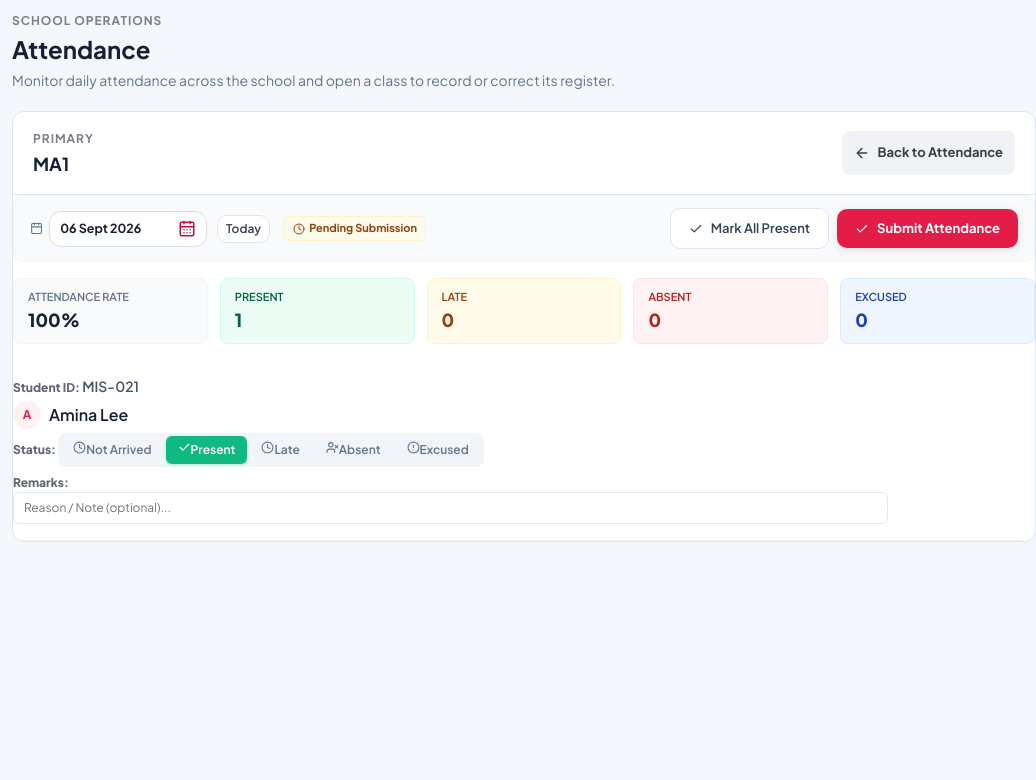
Test: ClassesPage › opens the standalone class register and allows recording attendance
The width and height of the screenshot is (1036, 780).
Expected: the heading "MA1" is shown, [33, 152, 69, 176]
Expected: the text "ATTENDANCE RATE" is shown, [28, 290, 129, 304]
Click the button "Submit Attendance" at (928, 229), box [837, 209, 1018, 248]
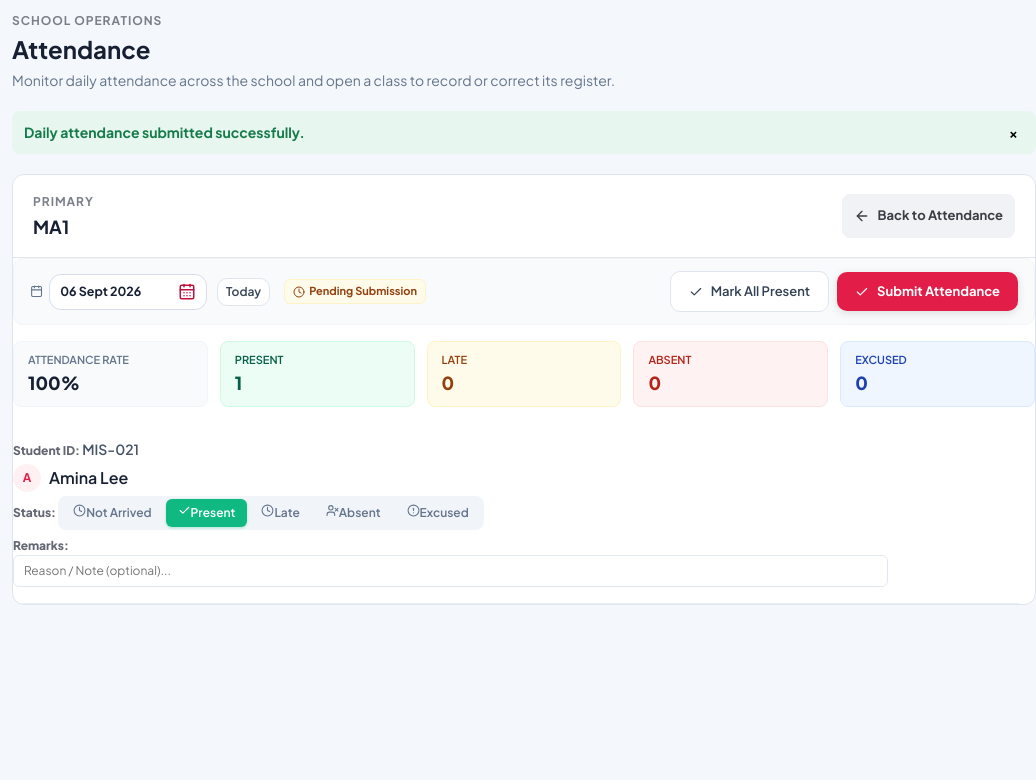
Now the text "Daily attendance submitted successfully." is shown, box [24, 122, 305, 144]
